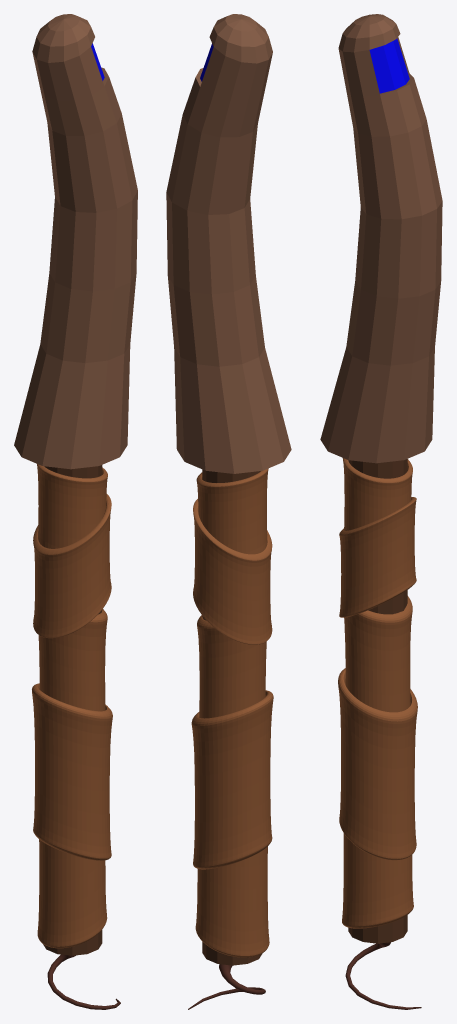
File: Wand 349.glb
3 views of the same model, side by side, from view 1: azimuth 30°, elevation 25°; view 2: azimuth 150°, elevation 25°; view 3: azimuth 330°, elevation 25° (orthographic). The views are drawn at different scales.
Parts seen in each view (by area): view 1: GeneratedWand; view 2: GeneratedWand; view 3: GeneratedWand.
Boxes of the visible parts, left/top/right/bottom form: GeneratedWand: left=14, top=14, right=137, bottom=1009; GeneratedWand: left=166, top=14, right=291, bottom=1009; GeneratedWand: left=320, top=14, right=442, bottom=1009.
Size of the model in its own units: 0.0644 by 0.5514 by 0.0572.
